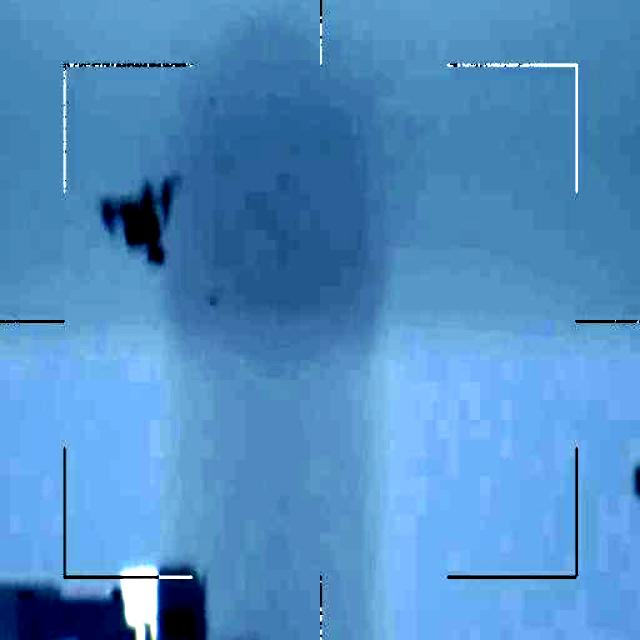bird: (96, 179, 184, 269)
